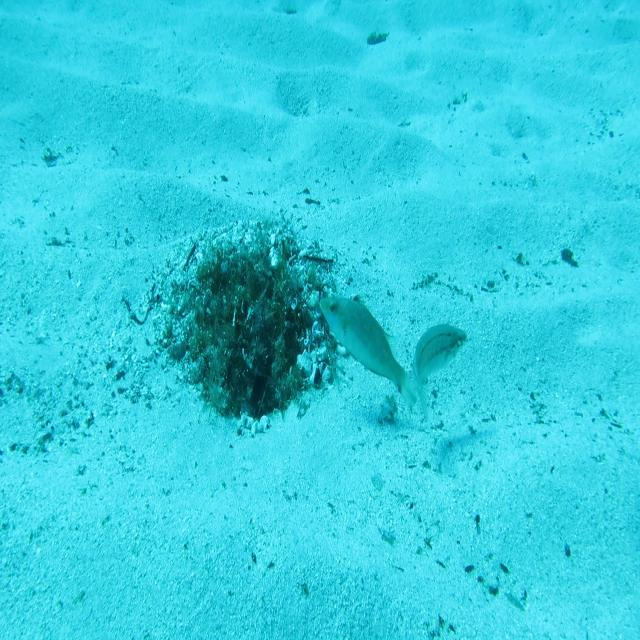BN: (318, 290, 420, 415)
core_nest: (221, 268, 278, 305)
female: (411, 320, 468, 424)
nest: (142, 208, 356, 445)
vegetation: (363, 28, 390, 42)
